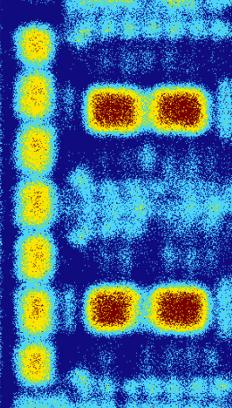Pad 1: (149, 88, 207, 132), (151, 288, 208, 330), (87, 89, 142, 131), (86, 287, 137, 331)
Pad 2: (19, 235, 54, 280), (19, 290, 53, 335), (19, 181, 52, 227), (20, 127, 53, 172), (19, 74, 51, 118), (19, 342, 52, 383), (20, 26, 53, 64)
